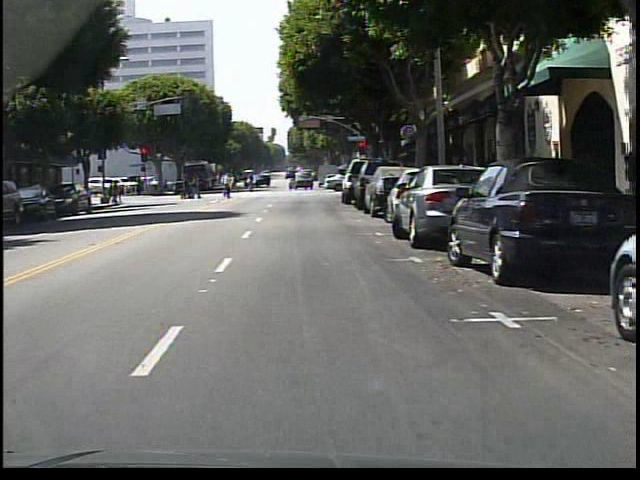person: (215, 170, 236, 200)
